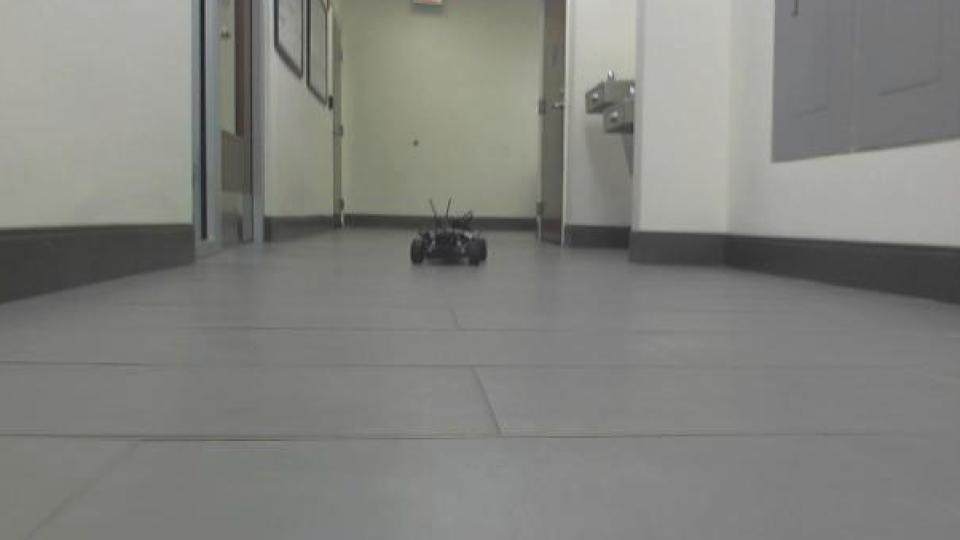car: (406, 195, 492, 270)
